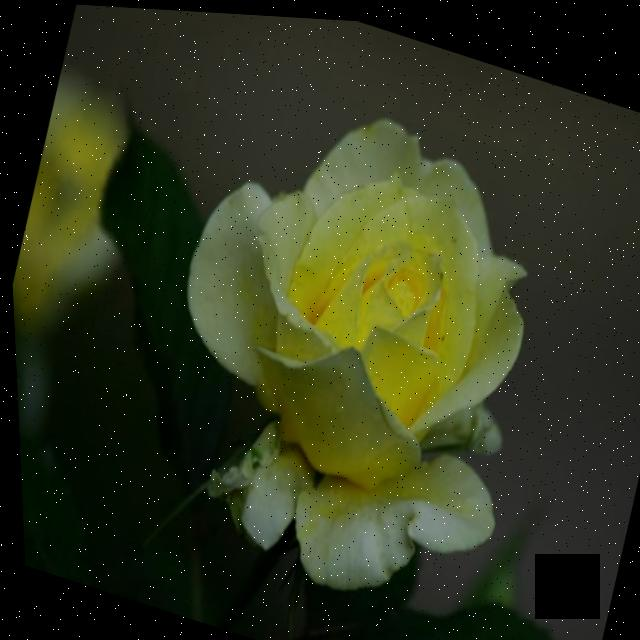rose: (107, 38, 586, 613)
